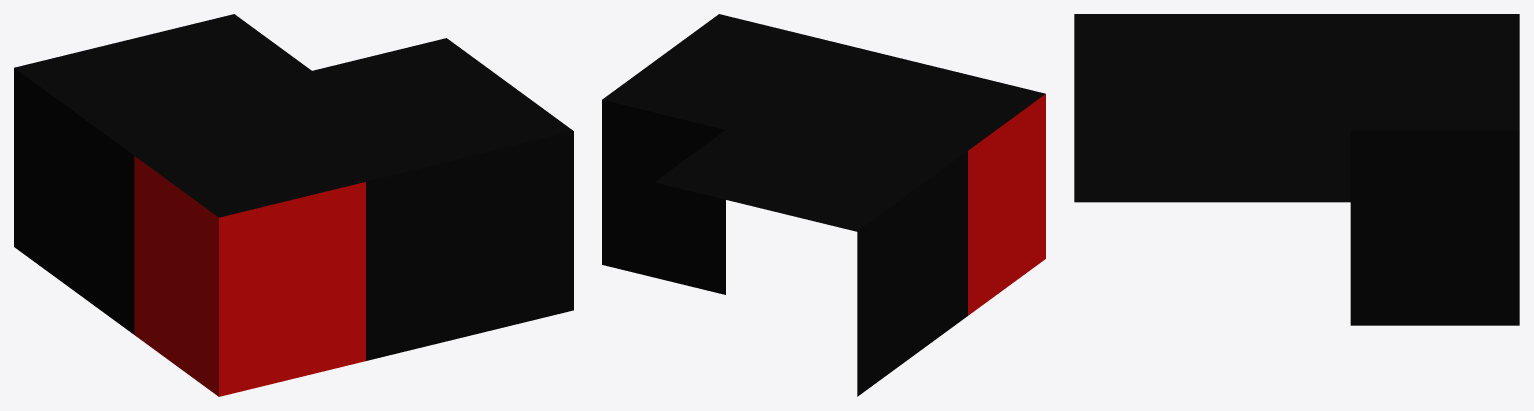
The model's file is ext_corner_cut.glb.
3 views of the same model, side by side, from view 1: azimuth 30°, elevation 25°; view 2: azimuth 150°, elevation 25°; view 3: azimuth 270°, elevation 25° (orthographic). The views are drawn at different scales.
Parts seen in each view (by area): view 1: ext_corner_cut; view 2: ext_corner_cut; view 3: ext_corner_cut.
Boxes of the visible parts, x1,y1,x2,y2 form: ext_corner_cut: (14,14,573,396); ext_corner_cut: (602,14,1045,396); ext_corner_cut: (1074,14,1519,325).
Bounding box in the file's own units: 0.725 × 0.35 × 0.725.
